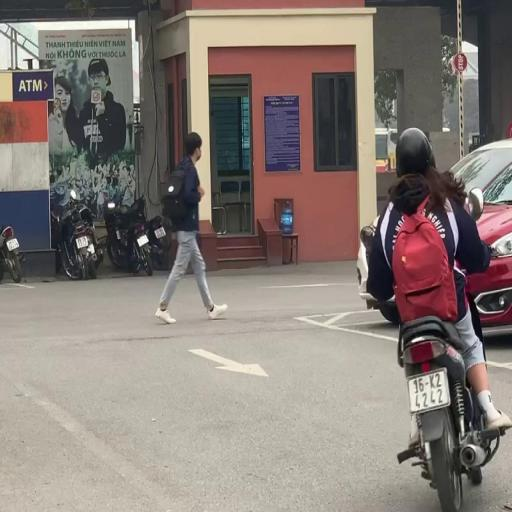bike: (362, 126, 511, 512)
numberplate: (406, 366, 452, 416), (6, 235, 20, 252), (153, 224, 167, 238), (76, 233, 88, 249), (136, 234, 148, 248)
with helmet: (394, 126, 436, 175)
